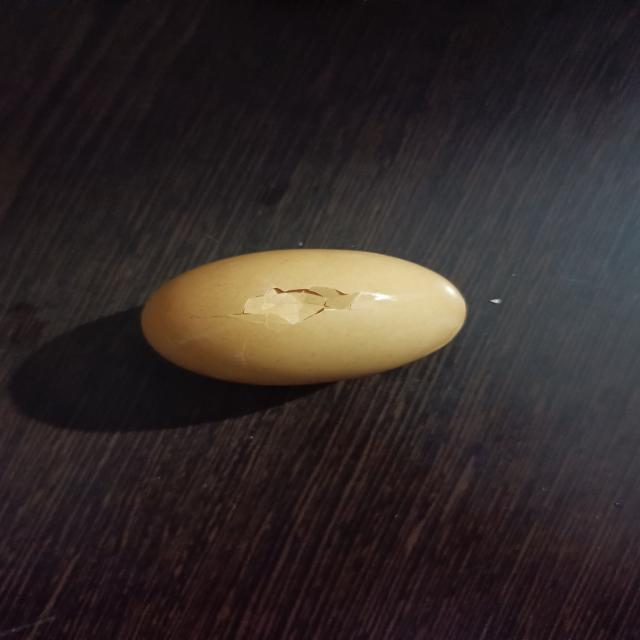biodegradable: (139, 249, 469, 389)
